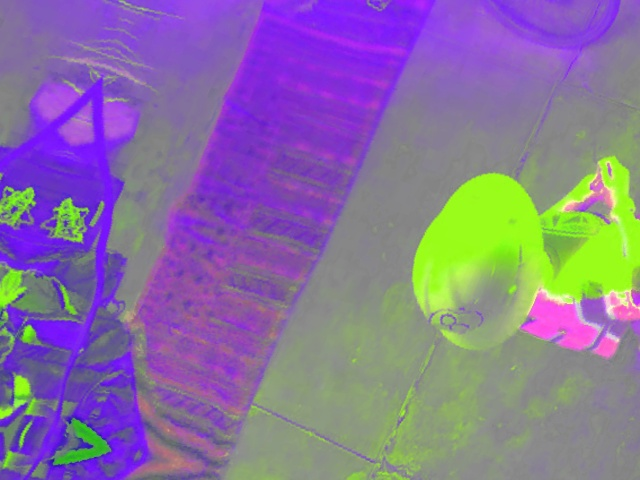eight: (424, 297, 486, 340)
